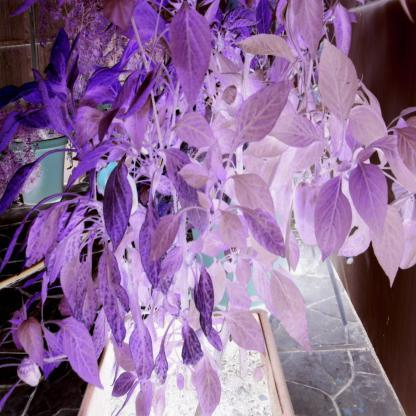Bell_pepper leaf spot: (158, 142, 212, 238), (229, 79, 294, 152), (169, 3, 210, 108), (310, 176, 356, 264), (94, 248, 134, 348), (318, 36, 357, 130), (101, 158, 136, 250), (348, 159, 389, 233), (139, 204, 169, 288), (170, 111, 217, 155)
